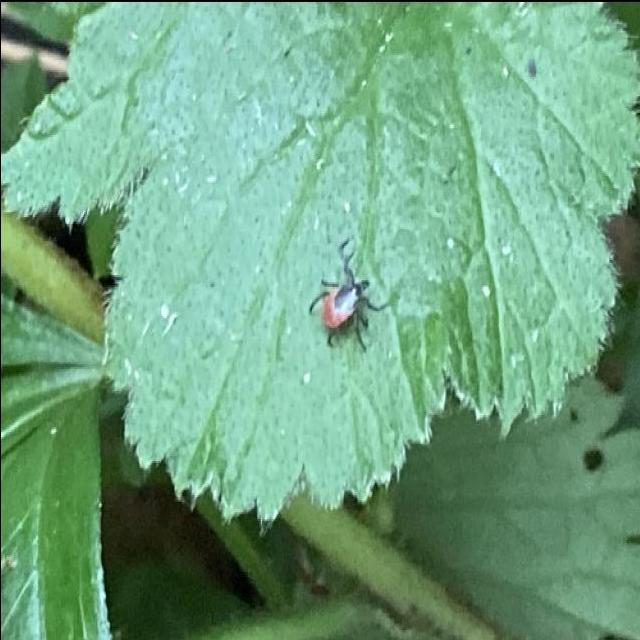Ixodes Ricinus-F: (308, 236, 385, 360)
